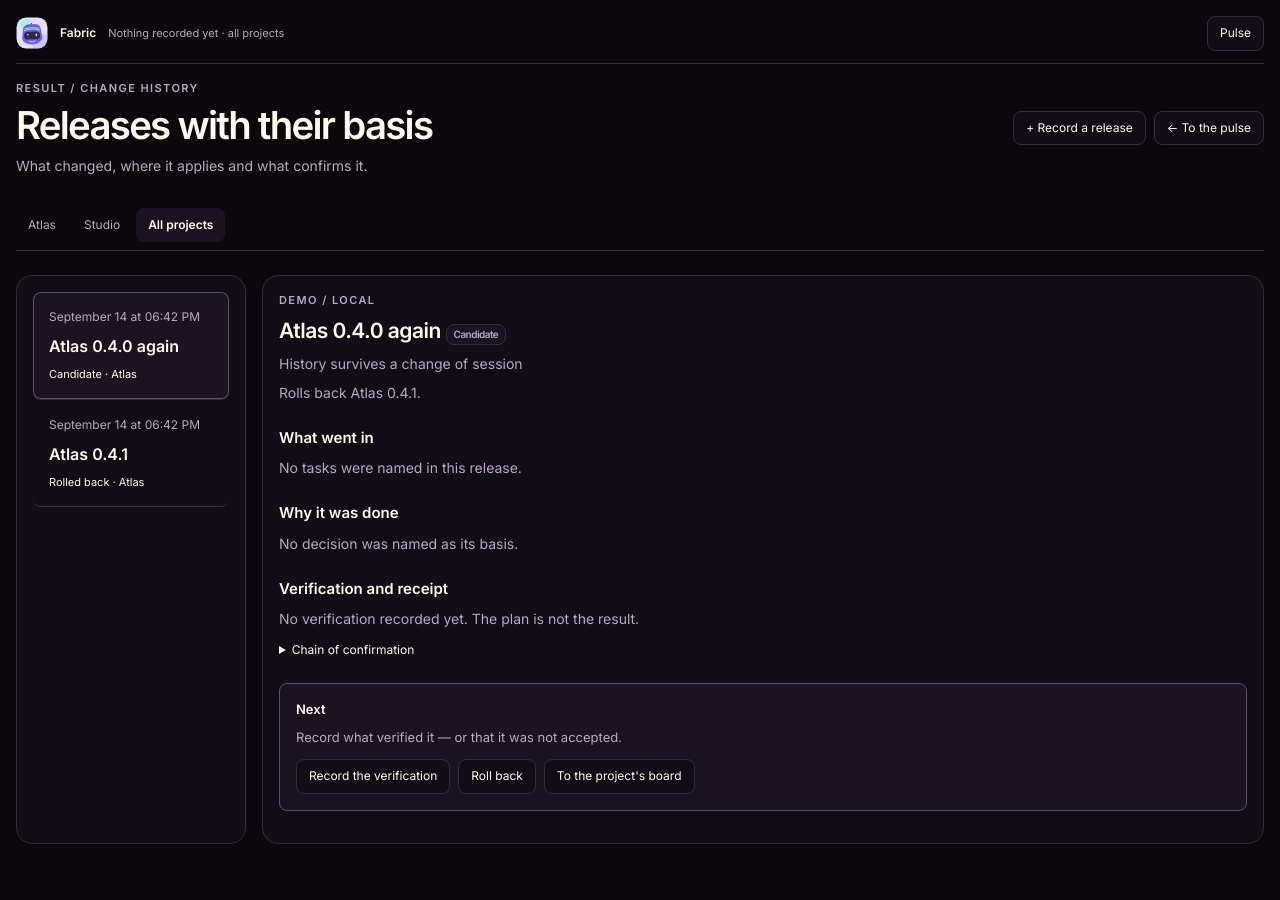
Test: releases with their basis (launch-releases) › a rolled-back release keeps its record and names what replaced it; it offers no second rollback
Click the button "September 14 at 06:42 PM Atlas 0.4.1 Rolled back · Atlas" at (131, 454), box [33,400,229,507]
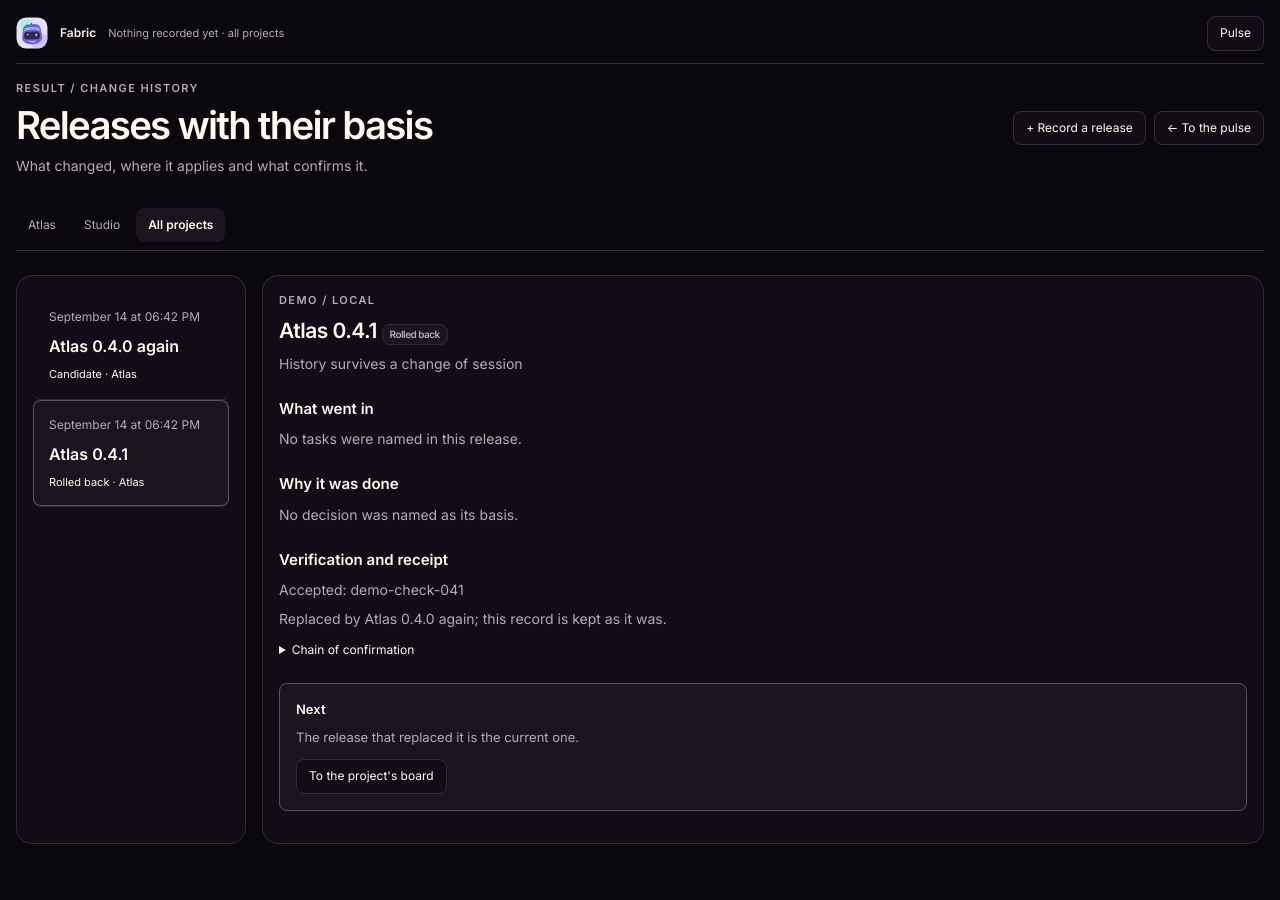
Result: the button "Roll back" is gone
